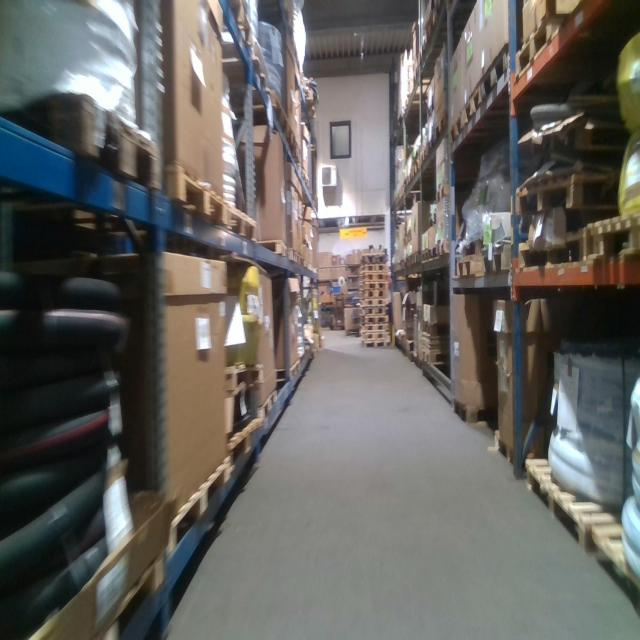pallet: (2, 93, 160, 194), (22, 538, 166, 640), (524, 451, 614, 579), (164, 448, 233, 556), (164, 160, 230, 233), (514, 167, 610, 214), (513, 16, 574, 81), (519, 230, 582, 280), (227, 89, 287, 134), (199, 3, 253, 53), (483, 45, 514, 121), (228, 415, 265, 470), (581, 217, 614, 278), (482, 237, 514, 284), (227, 192, 255, 244), (223, 357, 263, 388), (452, 398, 495, 425), (465, 82, 485, 135), (455, 251, 486, 285), (258, 388, 279, 430), (273, 358, 303, 383), (301, 82, 317, 122), (259, 239, 289, 260), (451, 109, 464, 149), (434, 110, 448, 147), (421, 347, 450, 364), (435, 186, 452, 204), (285, 125, 294, 158), (360, 263, 387, 273), (360, 290, 388, 299), (360, 307, 388, 316), (360, 254, 387, 263), (362, 324, 389, 333), (360, 281, 386, 290), (360, 299, 388, 307), (436, 243, 451, 257), (288, 245, 299, 264), (428, 131, 436, 157), (360, 273, 386, 281), (362, 316, 388, 324), (361, 333, 389, 340), (361, 340, 389, 347), (295, 140, 301, 172), (412, 251, 422, 269), (421, 144, 428, 164), (429, 246, 437, 263), (422, 247, 428, 266)
pallet_truck: (329, 288, 344, 331)
